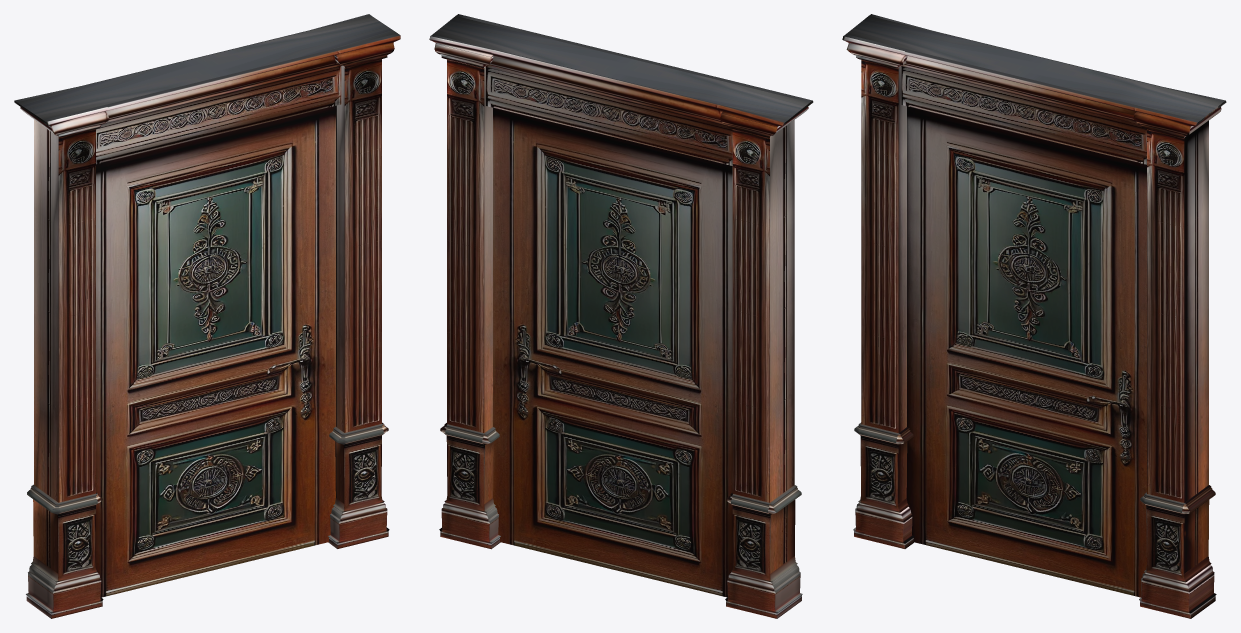
File: GothicDoor.fbx
The picture shows the model from 3 angles, left to right: view 1: azimuth 30°, elevation 25°; view 2: azimuth 150°, elevation 25°; view 3: azimuth 330°, elevation 25°; orthographic projection.
Visible parts, largest first — view 1: Door, Door_Frame; view 2: Door, Door_Frame; view 3: Door, Door_Frame.
Boxes of the visible parts, x1,y1,x2,y2 form: Door: [95, 106, 335, 597]; Door_Frame: [14, 14, 400, 618]; Door: [493, 107, 732, 597]; Door_Frame: [429, 14, 813, 618]; Door: [906, 106, 1146, 597]; Door_Frame: [842, 14, 1226, 618].
Bounding box in the file's own units: 221 × 297 × 35.51.
1 material, 1 textured.
